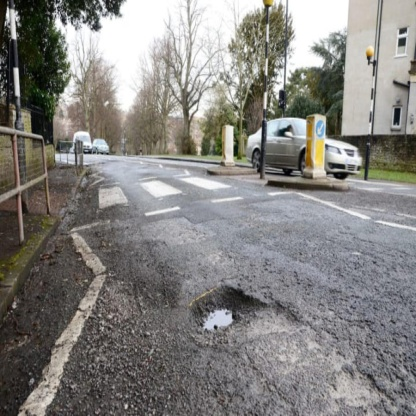pothole: (177, 274, 309, 352)
